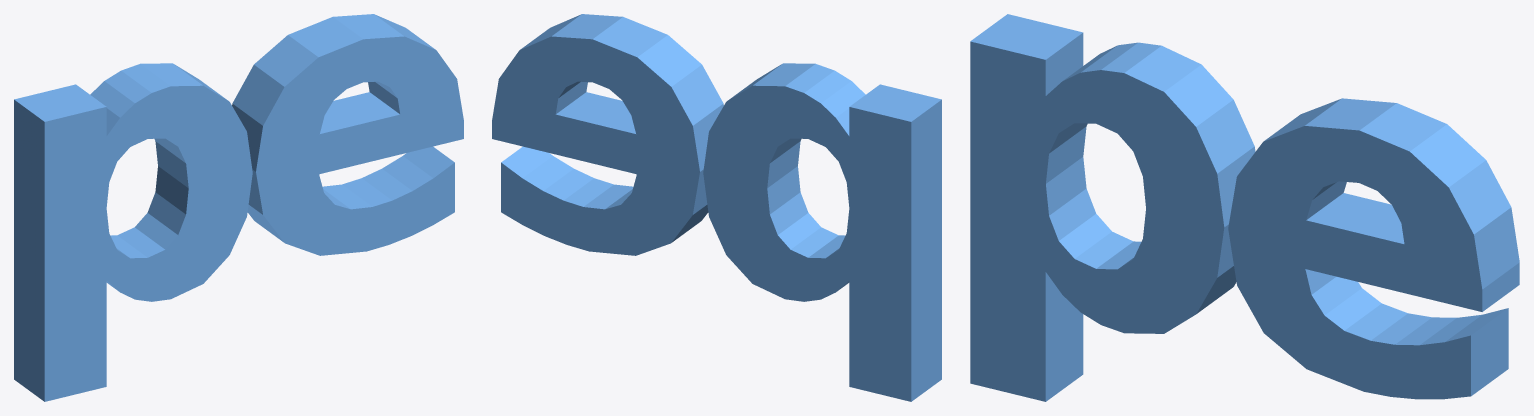
The model's file is suku_kecil_pe.glb.
The picture shows the model from 3 angles, left to right: view 1: azimuth 30°, elevation 25°; view 2: azimuth 150°, elevation 25°; view 3: azimuth 330°, elevation 25°; orthographic projection. The views are drawn at different scales.
Parts seen in each view (by area): view 1: geometry_0; view 2: geometry_0; view 3: geometry_0.
Part boxes in pixels (box(x1,y1,x2,y2)): geometry_0: box(14, 14, 463, 401); geometry_0: box(492, 14, 941, 401); geometry_0: box(970, 14, 1519, 401).
Size of the model in its own units: 11.83 by 7.68 by 1.5.
